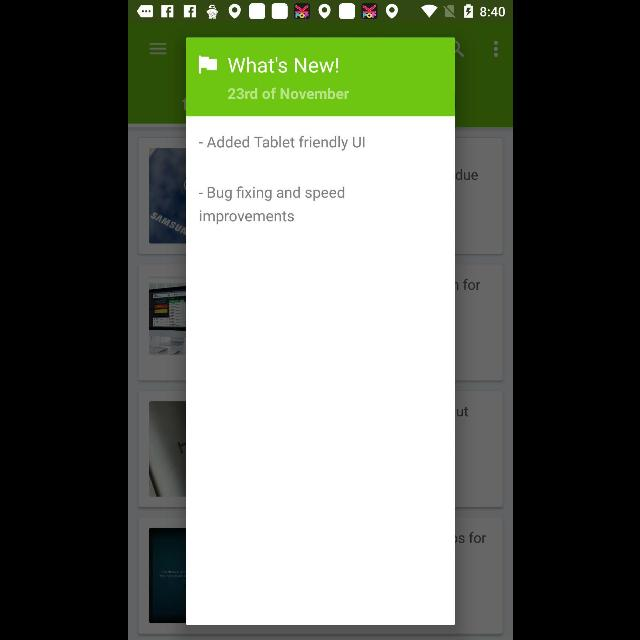icon: (148, 43, 166, 55), (492, 41, 498, 58)
image: (198, 56, 218, 74)
panel: (185, 38, 455, 624)
text: (198, 186, 344, 224), (199, 136, 365, 148), (228, 56, 338, 74), (227, 86, 349, 100)
uppertaskbar: (128, 1, 512, 23)
